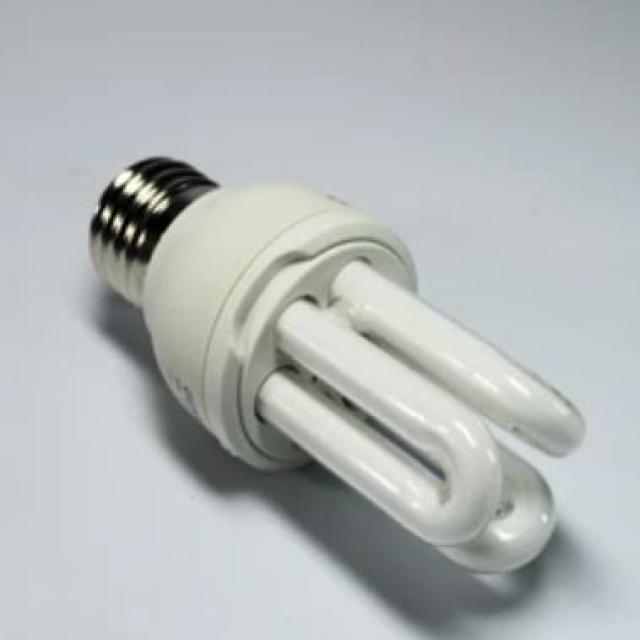electronic: (86, 152, 586, 576)
